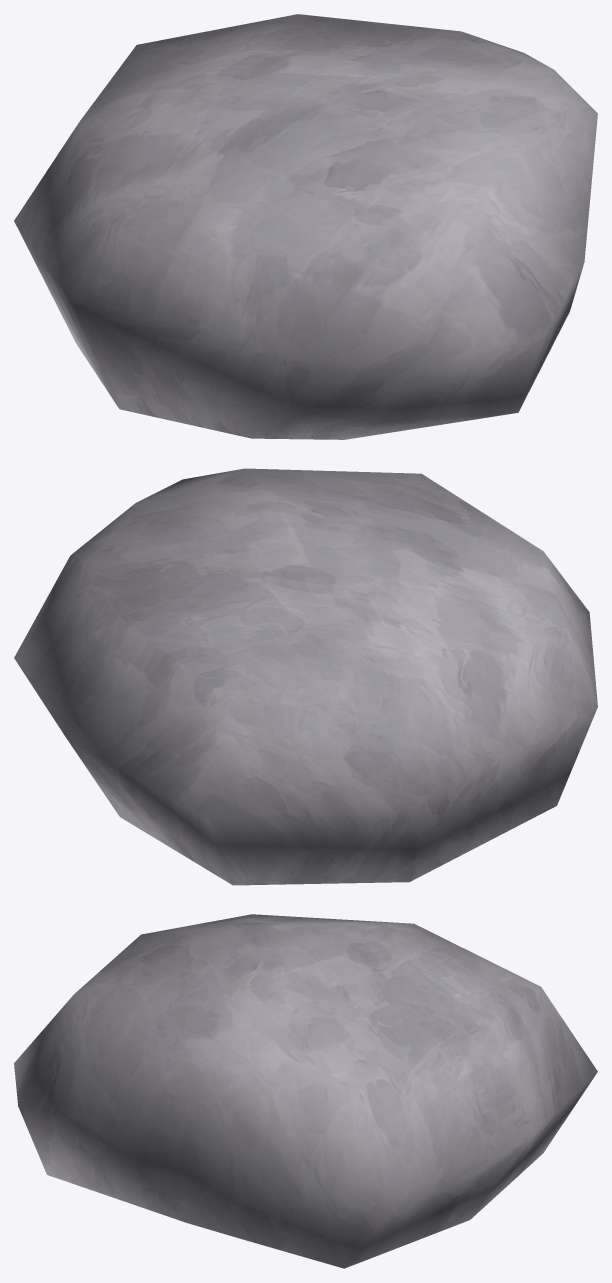
File: Stone_1.fbx
3 renders of one model, top to bottom at view 1: azimuth 30°, elevation 25°; view 2: azimuth 150°, elevation 25°; view 3: azimuth 270°, elevation 25°, orthographic. The views are drawn at different scales.
Parts seen in each view (by area): view 1: Stone_1; view 2: Stone_1; view 3: Stone_1.
Boxes of the visible parts, bbox=[...] form: Stone_1: bbox=[14, 14, 597, 439]; Stone_1: bbox=[14, 468, 597, 885]; Stone_1: bbox=[14, 914, 597, 1268].
Bounding box in the file's own units: 1.38 × 0.6995 × 1.52.
